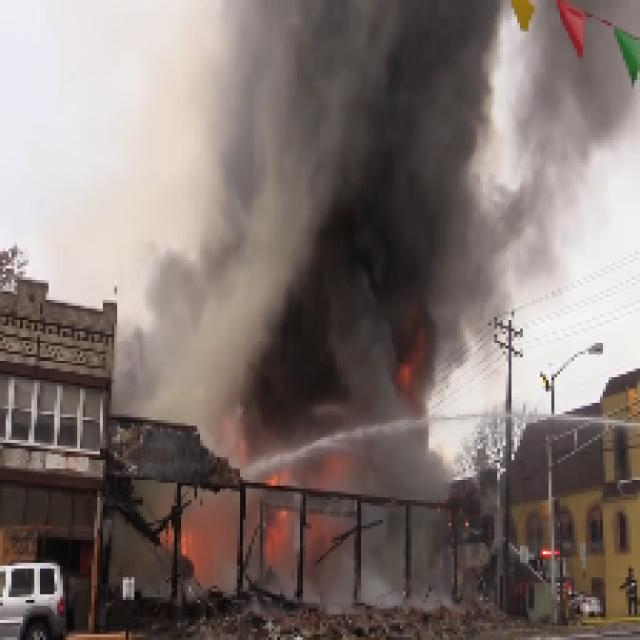smoke: (134, 1, 513, 336)
